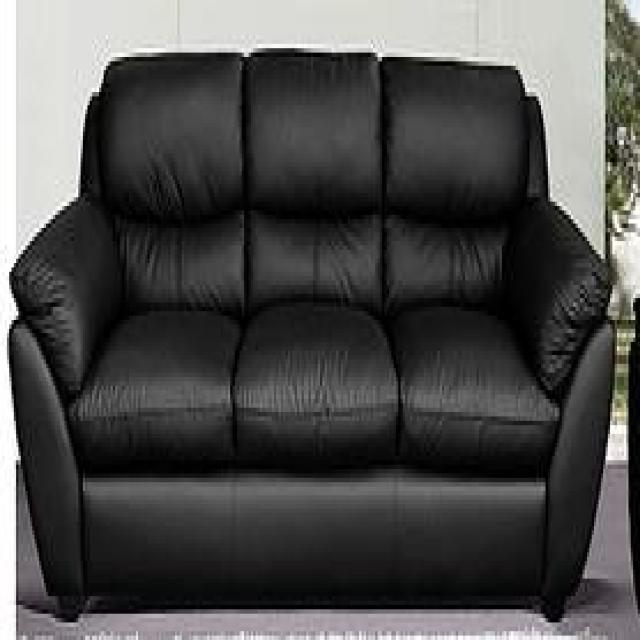sofa: (8, 41, 615, 627)
